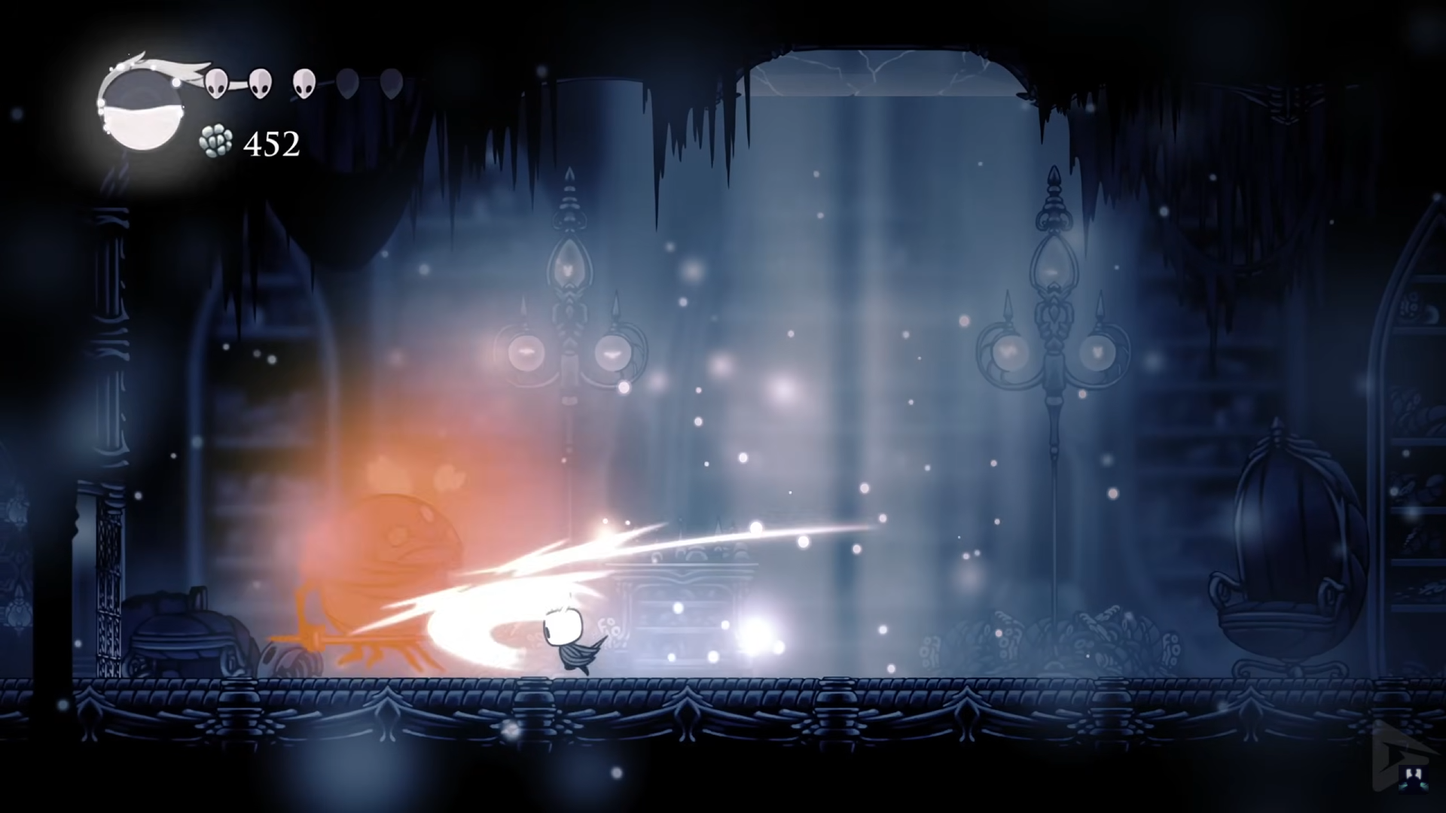HK: (531, 593, 605, 684)
